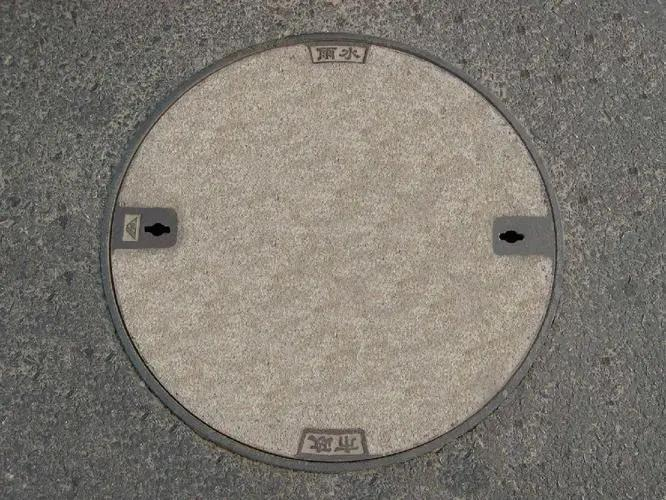wellcover: (98, 18, 559, 475)
